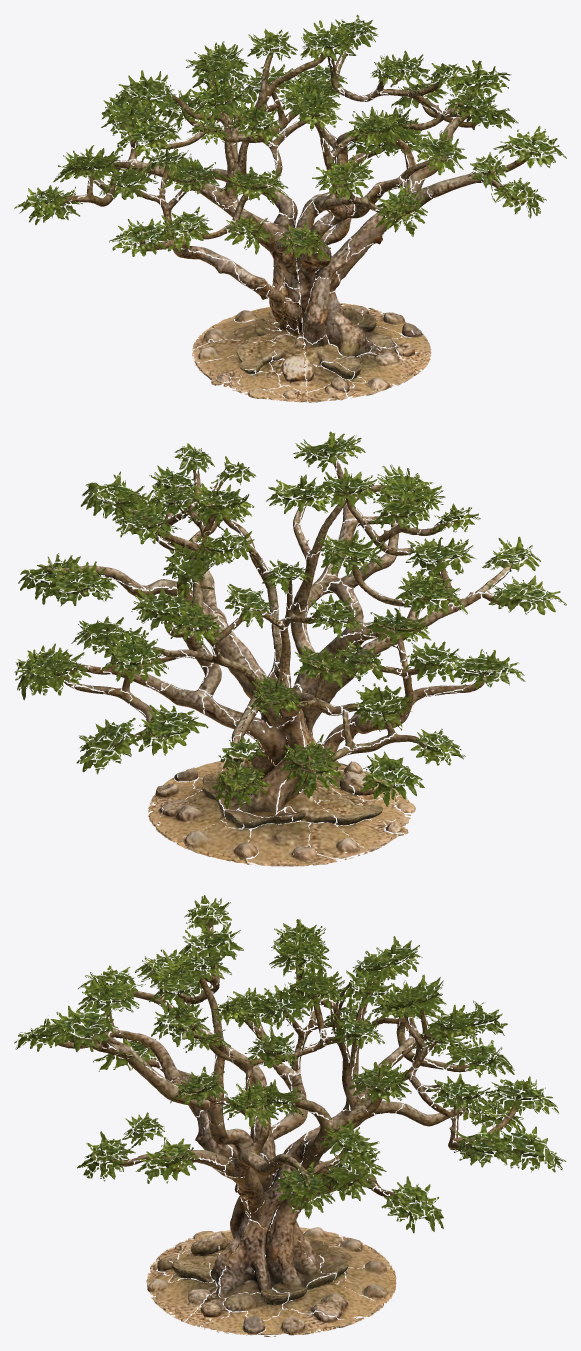
Rendered from frankincense.glb.
The picture shows the model from 3 angles, top to bottom: view 1: azimuth 30°, elevation 25°; view 2: azimuth 150°, elevation 25°; view 3: azimuth 270°, elevation 25°; orthographic projection. The views are drawn at different scales.
Visible parts, largest first — view 1: world; view 2: world; view 3: world.
Boxes of the visible parts, left/top/right/bottom form: world: left=14, top=14, right=566, bottom=402; world: left=14, top=431, right=566, bottom=866; world: left=14, top=895, right=566, bottom=1336.
Bounding box in the file's own units: 0.9788 × 0.6206 × 0.954.
Materials: 1 (1 with a texture image).
